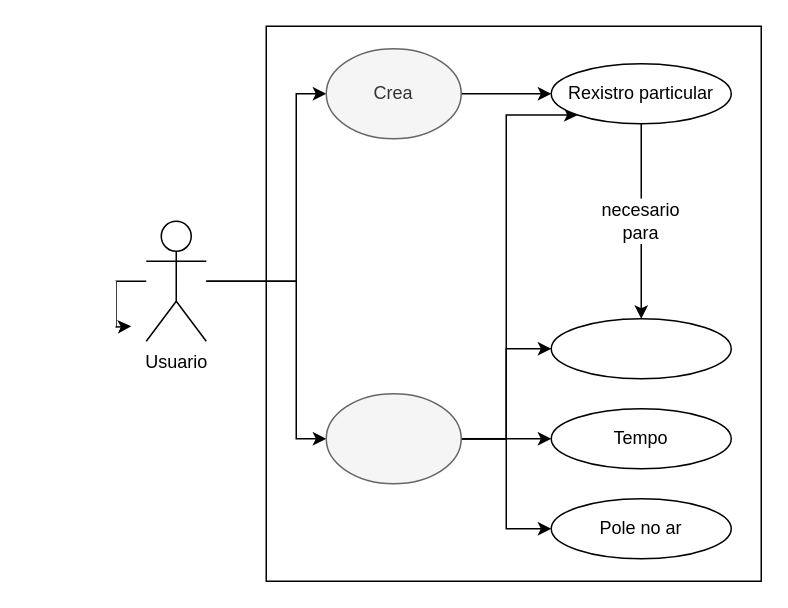
Image size: 788x608. Some labels were removed from this diagram. The box of each missing label's shape, as (x1, y1, x2, y2) in pixels:
axuda: (26, 280, 116, 326)
Consulta: (325, 392, 461, 484)
Rexistros comunitarios: (550, 317, 731, 379)
